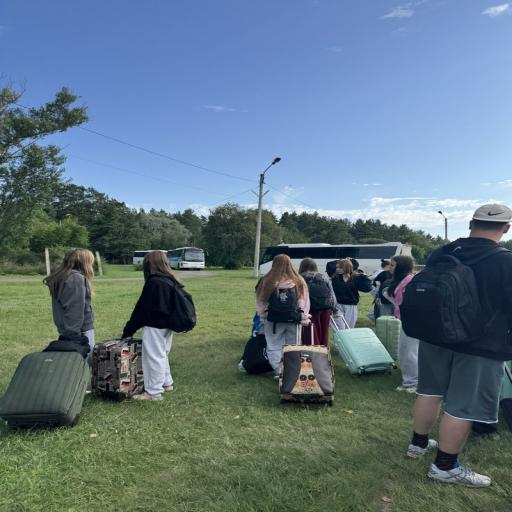crosswalk: (122, 250, 182, 400)
door: (400, 246, 488, 346), (168, 286, 197, 332)
elevator: (253, 157, 281, 278)
